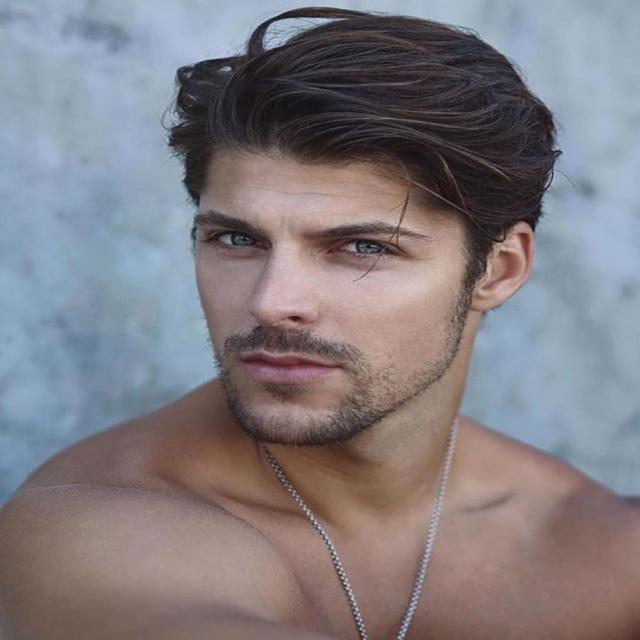front: (198, 165, 463, 449)
